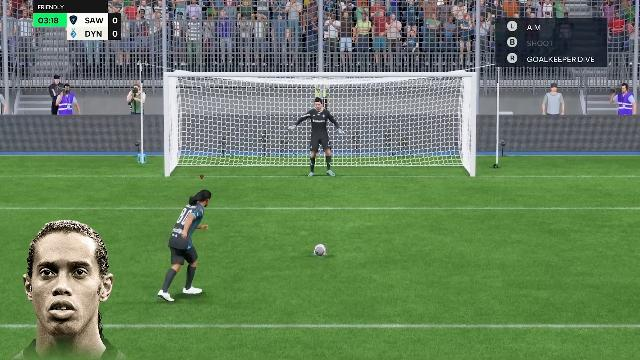football: (312, 246, 330, 255)
goal-bottom-left: (183, 139, 269, 178)
goal-bottom-right: (357, 139, 457, 178)
goal-middle-down: (272, 139, 356, 178)
goal-middle-up: (272, 88, 356, 138)
goal-top-left: (182, 88, 270, 138)
goal-top-right: (357, 88, 459, 138)
goalkeeper: (288, 103, 342, 180)
player: (160, 182, 212, 304)
